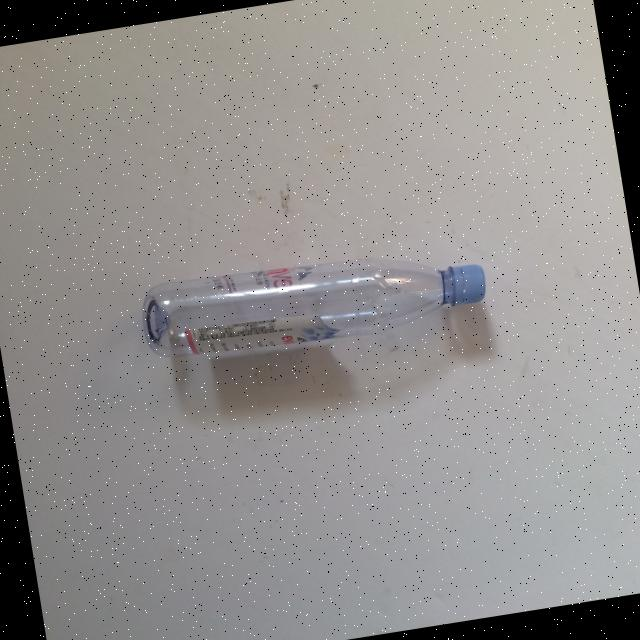plastic: (136, 232, 492, 370)
